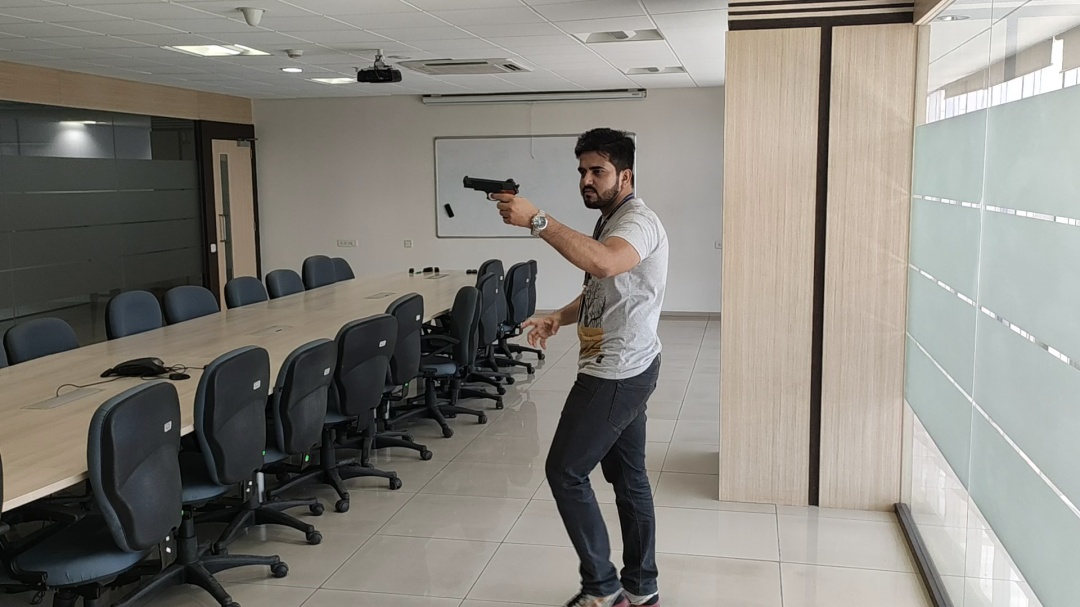gun: (458, 167, 527, 198)
